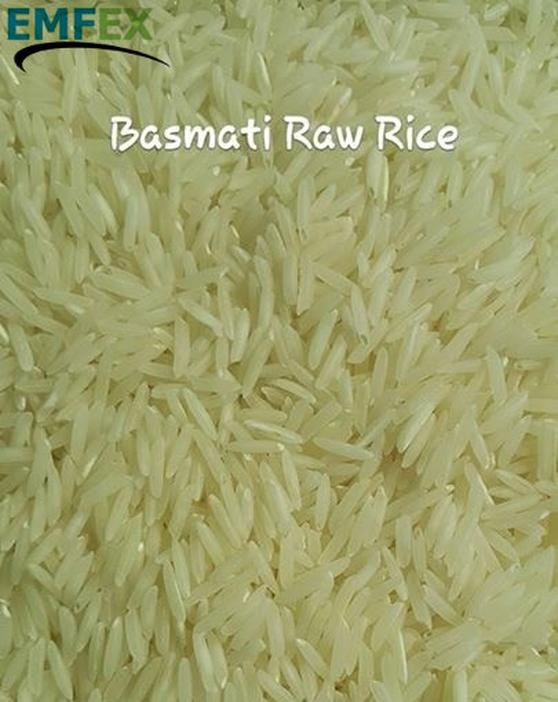rice: (42, 139, 542, 702)
